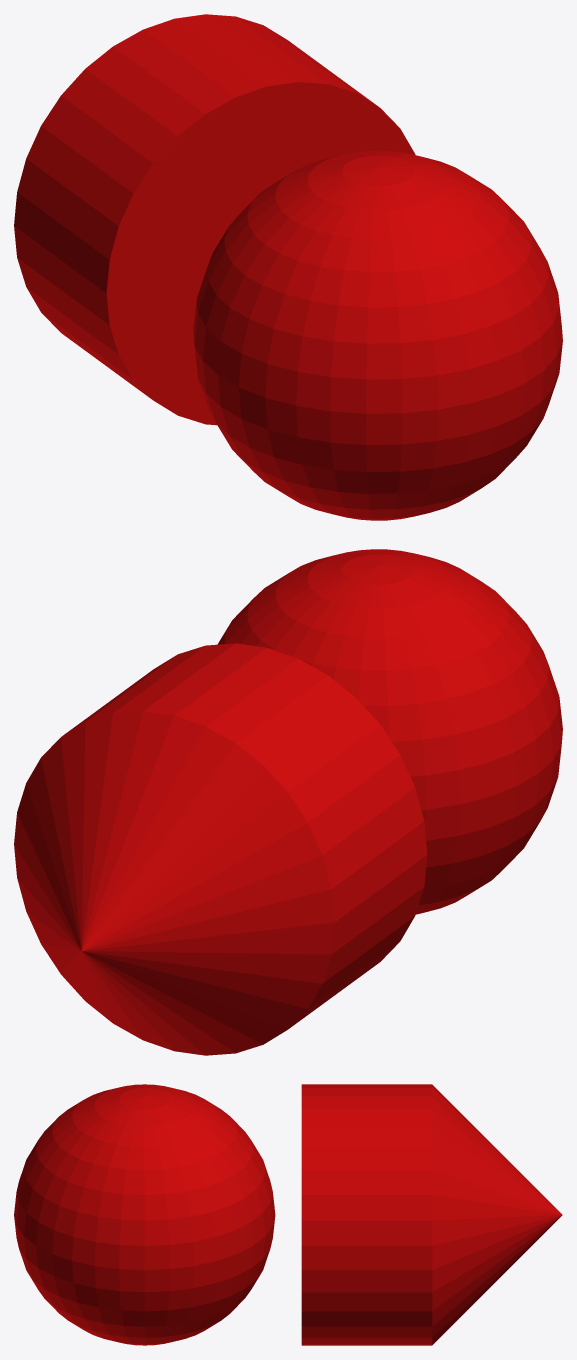
Rendered from Player.obj.
The picture shows the model from 3 angles, top to bottom: view 1: azimuth 30°, elevation 25°; view 2: azimuth 150°, elevation 25°; view 3: azimuth 270°, elevation 25°; orthographic projection. The views are drawn at different scales.
Parts seen in each view (by area): view 1: 球; view 2: 球; view 3: 球.
Part boxes in pixels (x1,y1,x2,y2): 球: [14, 14, 562, 520]; 球: [14, 549, 562, 1055]; 球: [14, 1084, 562, 1345].
Bounding box in the file's own units: 1 × 1 × 2.1.
